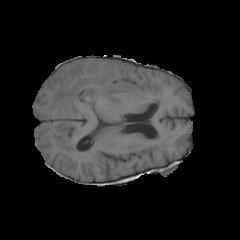glioma: (48, 63, 136, 116)
